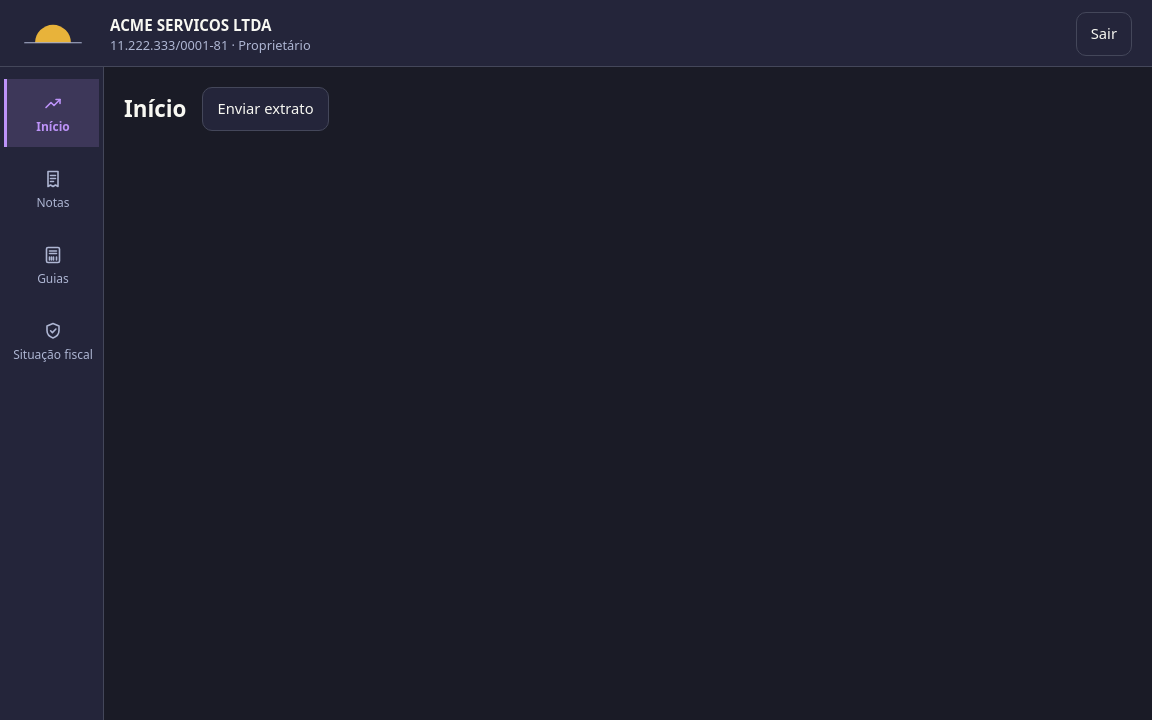
Test: ⚠⚠ na barra do topo a marca é SÓ O SOL — e ela volta ao início › ⚠⚠ clicando nela de OUTRA aba, a tela volta para o Início
Click the link "Guias".
click(53, 266)  # box [37,244,69,286]
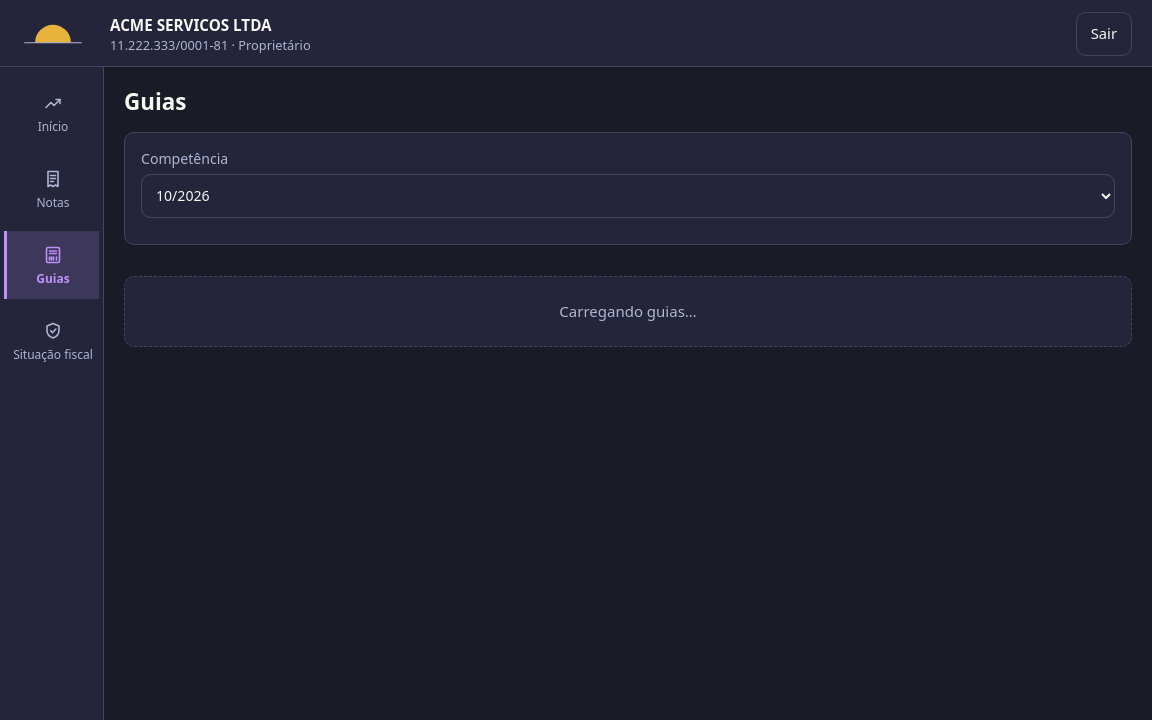
Click the link named "Altan Contabilidade — ir para o início".
click(53, 34)  # box [20,21,86,47]
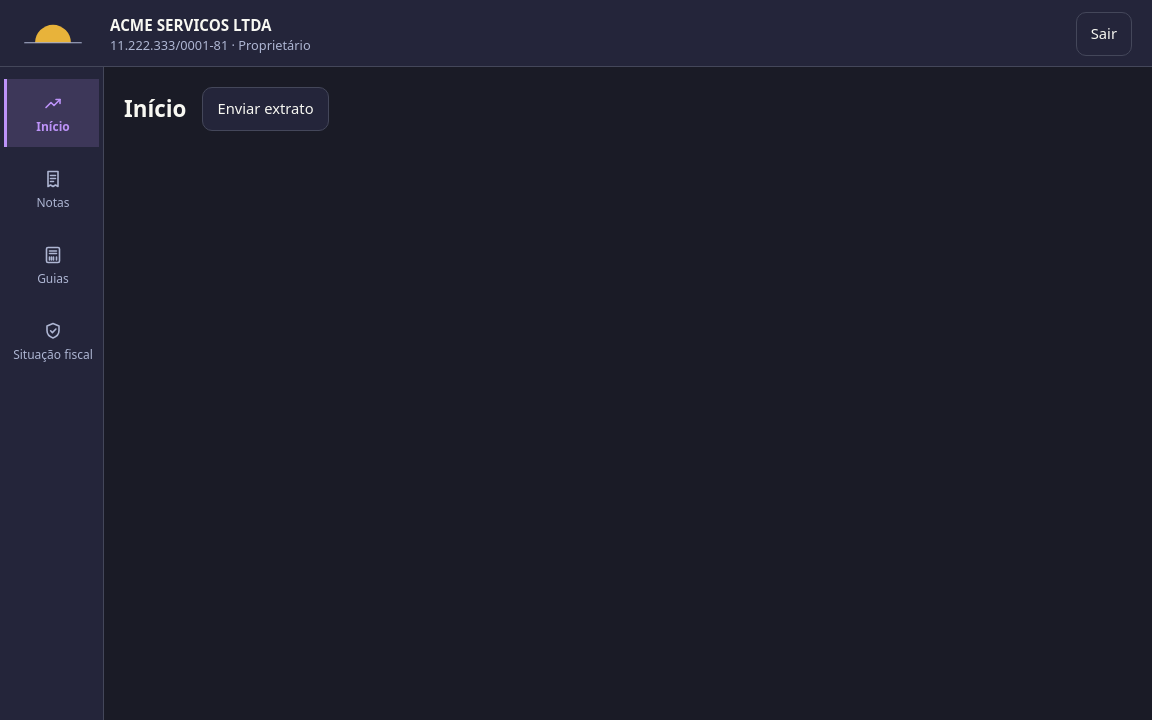
Result: the heading "Início" is shown at [124,94,186,124]
